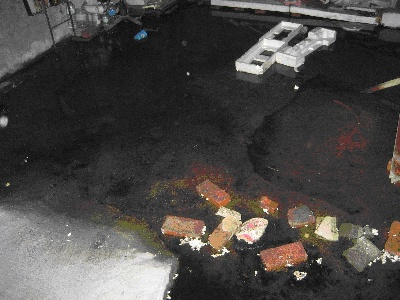styrofoam: (275, 27, 336, 68), (235, 37, 285, 74), (258, 21, 301, 49)
